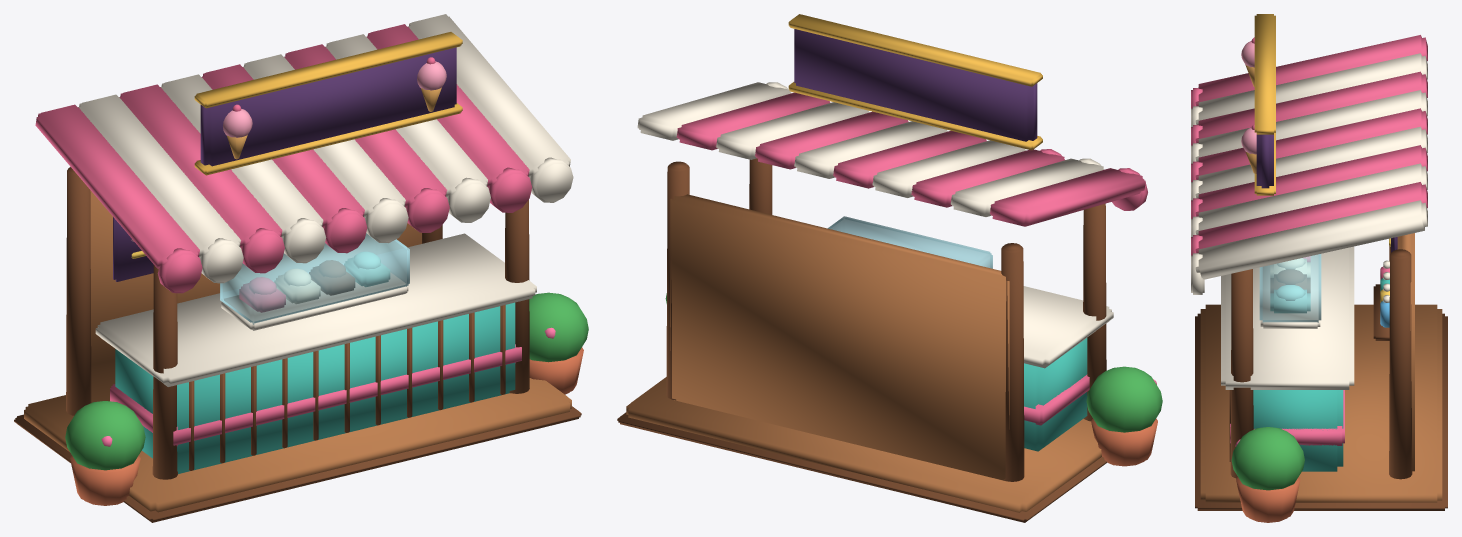
The model's file is KioskGirlPower.fbx.
3 renders of one model, left to right at view 1: azimuth 30°, elevation 25°; view 2: azimuth 150°, elevation 25°; view 3: azimuth 270°, elevation 25°, orthographic. The views are drawn at different scales.
Parts seen in each view (by area): view 1: KioskGirlPower; view 2: KioskGirlPower; view 3: KioskGirlPower.
Boxes of the visible parts, left/top/right/bottom form: KioskGirlPower: left=14, top=14, right=588, bottom=522; KioskGirlPower: left=617, top=14, right=1162, bottom=522; KioskGirlPower: left=1191, top=14, right=1447, bottom=522.
Bounding box in the file's own units: 5.6 × 3.94 × 2.66.
